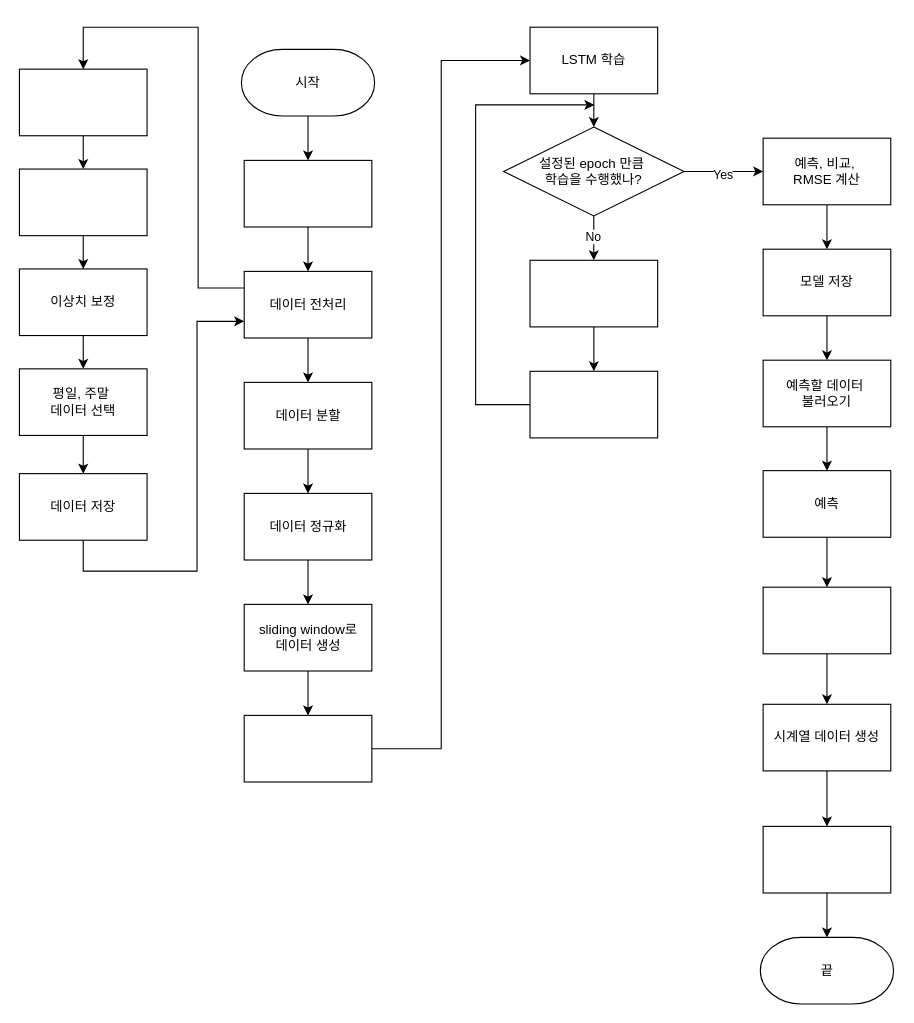
Image size: 914x1023. Some labels were removed from this diagram. The centre of each missing label's shape, as x and y in pixels:
Data denormalization: the point at 826,620
loss 계산: the point at 593,293
LSTM 구조 정의: the point at 307,748
parameter 업데이트: the point at 593,404
결측치 보정: the point at 82,102
데이터 불러오기: the point at 307,193
시간 병합: the point at 82,202
이상치 검출 및 라벨링: the point at 826,859
